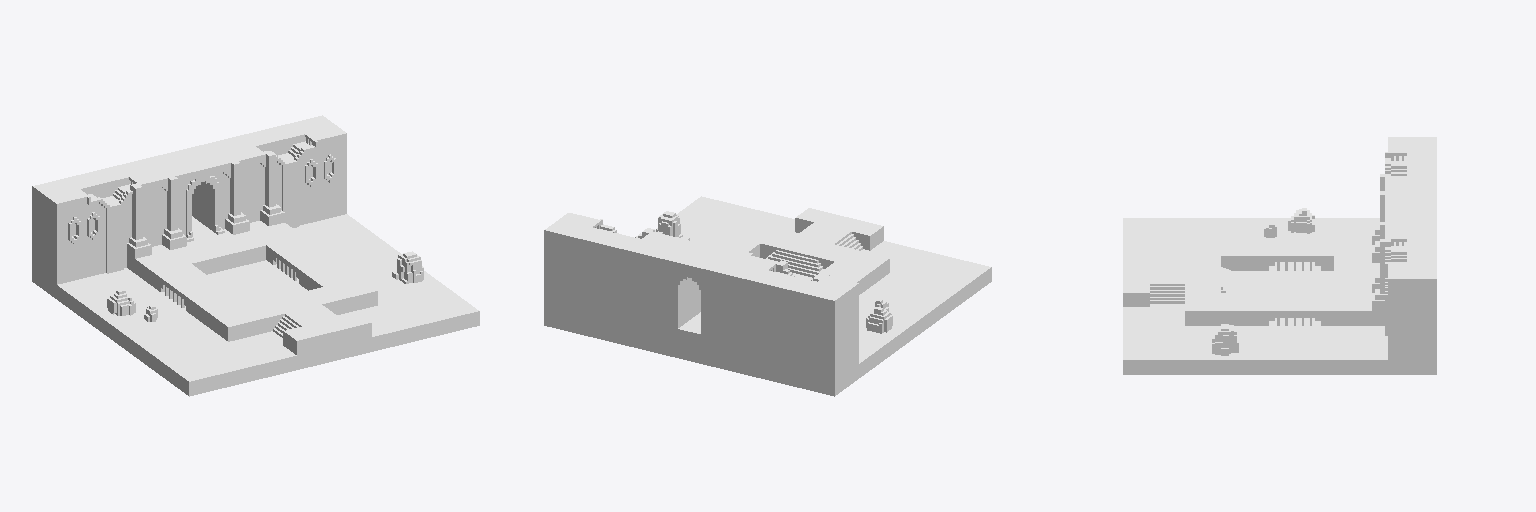
Rendered from gj2022lvl1 (4).obj.
3 renders of one model, left to right at view 1: azimuth 30°, elevation 25°; view 2: azimuth 150°, elevation 25°; view 3: azimuth 270°, elevation 25°, orthographic.
Parts seen in each view (by area): view 1: object 1; view 2: object 1; view 3: object 1.
Boxes of the visible parts, x1=… form: object 1: x1=32, y1=115, x2=479, y2=396; object 1: x1=544, y1=196, x2=991, y2=396; object 1: x1=1123, y1=137, x2=1436, y2=374.
Size of the model in its own units: 12.4 by 3.9 by 11.6.